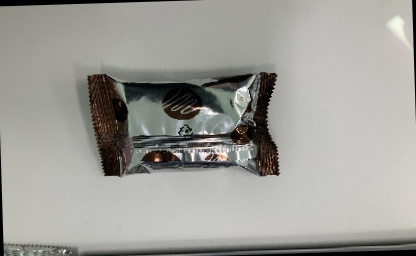mon: (85, 65, 284, 187)
